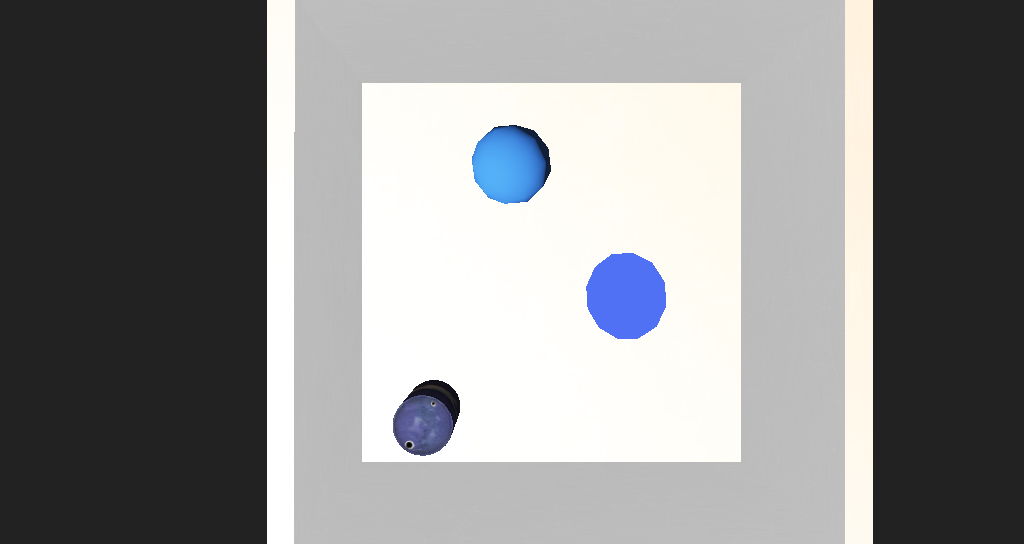cone: (377, 329, 431, 367)
cylinder: (529, 255, 630, 308)
sphere: (438, 188, 505, 231)
